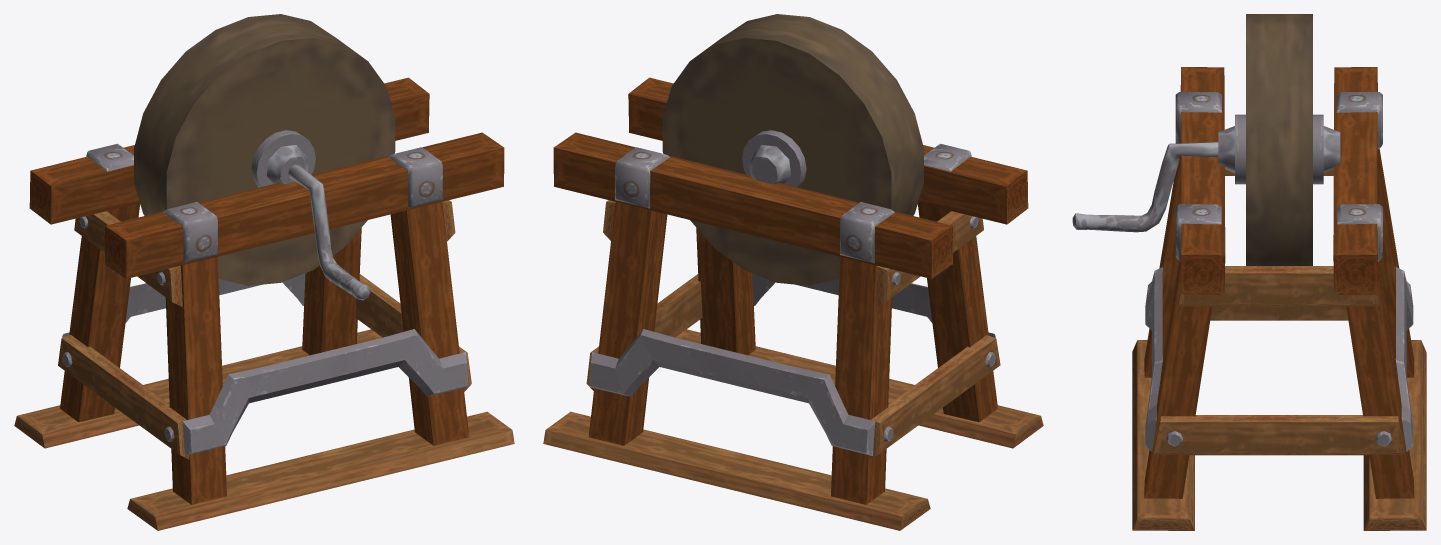
The model's file is whetstone-vmC1THSO.glb.
3 views of the same model, side by side, from view 1: azimuth 30°, elevation 25°; view 2: azimuth 150°, elevation 25°; view 3: azimuth 270°, elevation 25° (orthographic). The views are drawn at different scales.
Visible parts, largest first — view 1: Whetstone; view 2: Whetstone; view 3: Whetstone.
Part boxes in pixels (x1,y1,x2,y2): Whetstone: (14, 14, 514, 530); Whetstone: (543, 14, 1043, 530); Whetstone: (1072, 14, 1426, 530).
Size of the model in its own units: 1.83 by 1.87 by 1.44.
3 materials, 3 textured.
